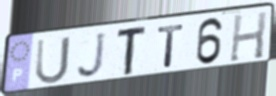6: (195, 17, 224, 66)
H: (228, 10, 269, 64)
J: (75, 30, 108, 80)
T: (115, 24, 149, 78), (156, 22, 187, 69)
U: (34, 34, 72, 87)
